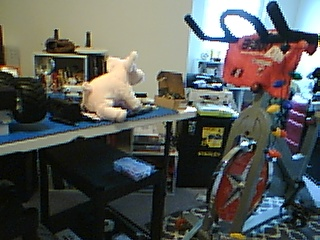piggy: (80, 49, 147, 123)
